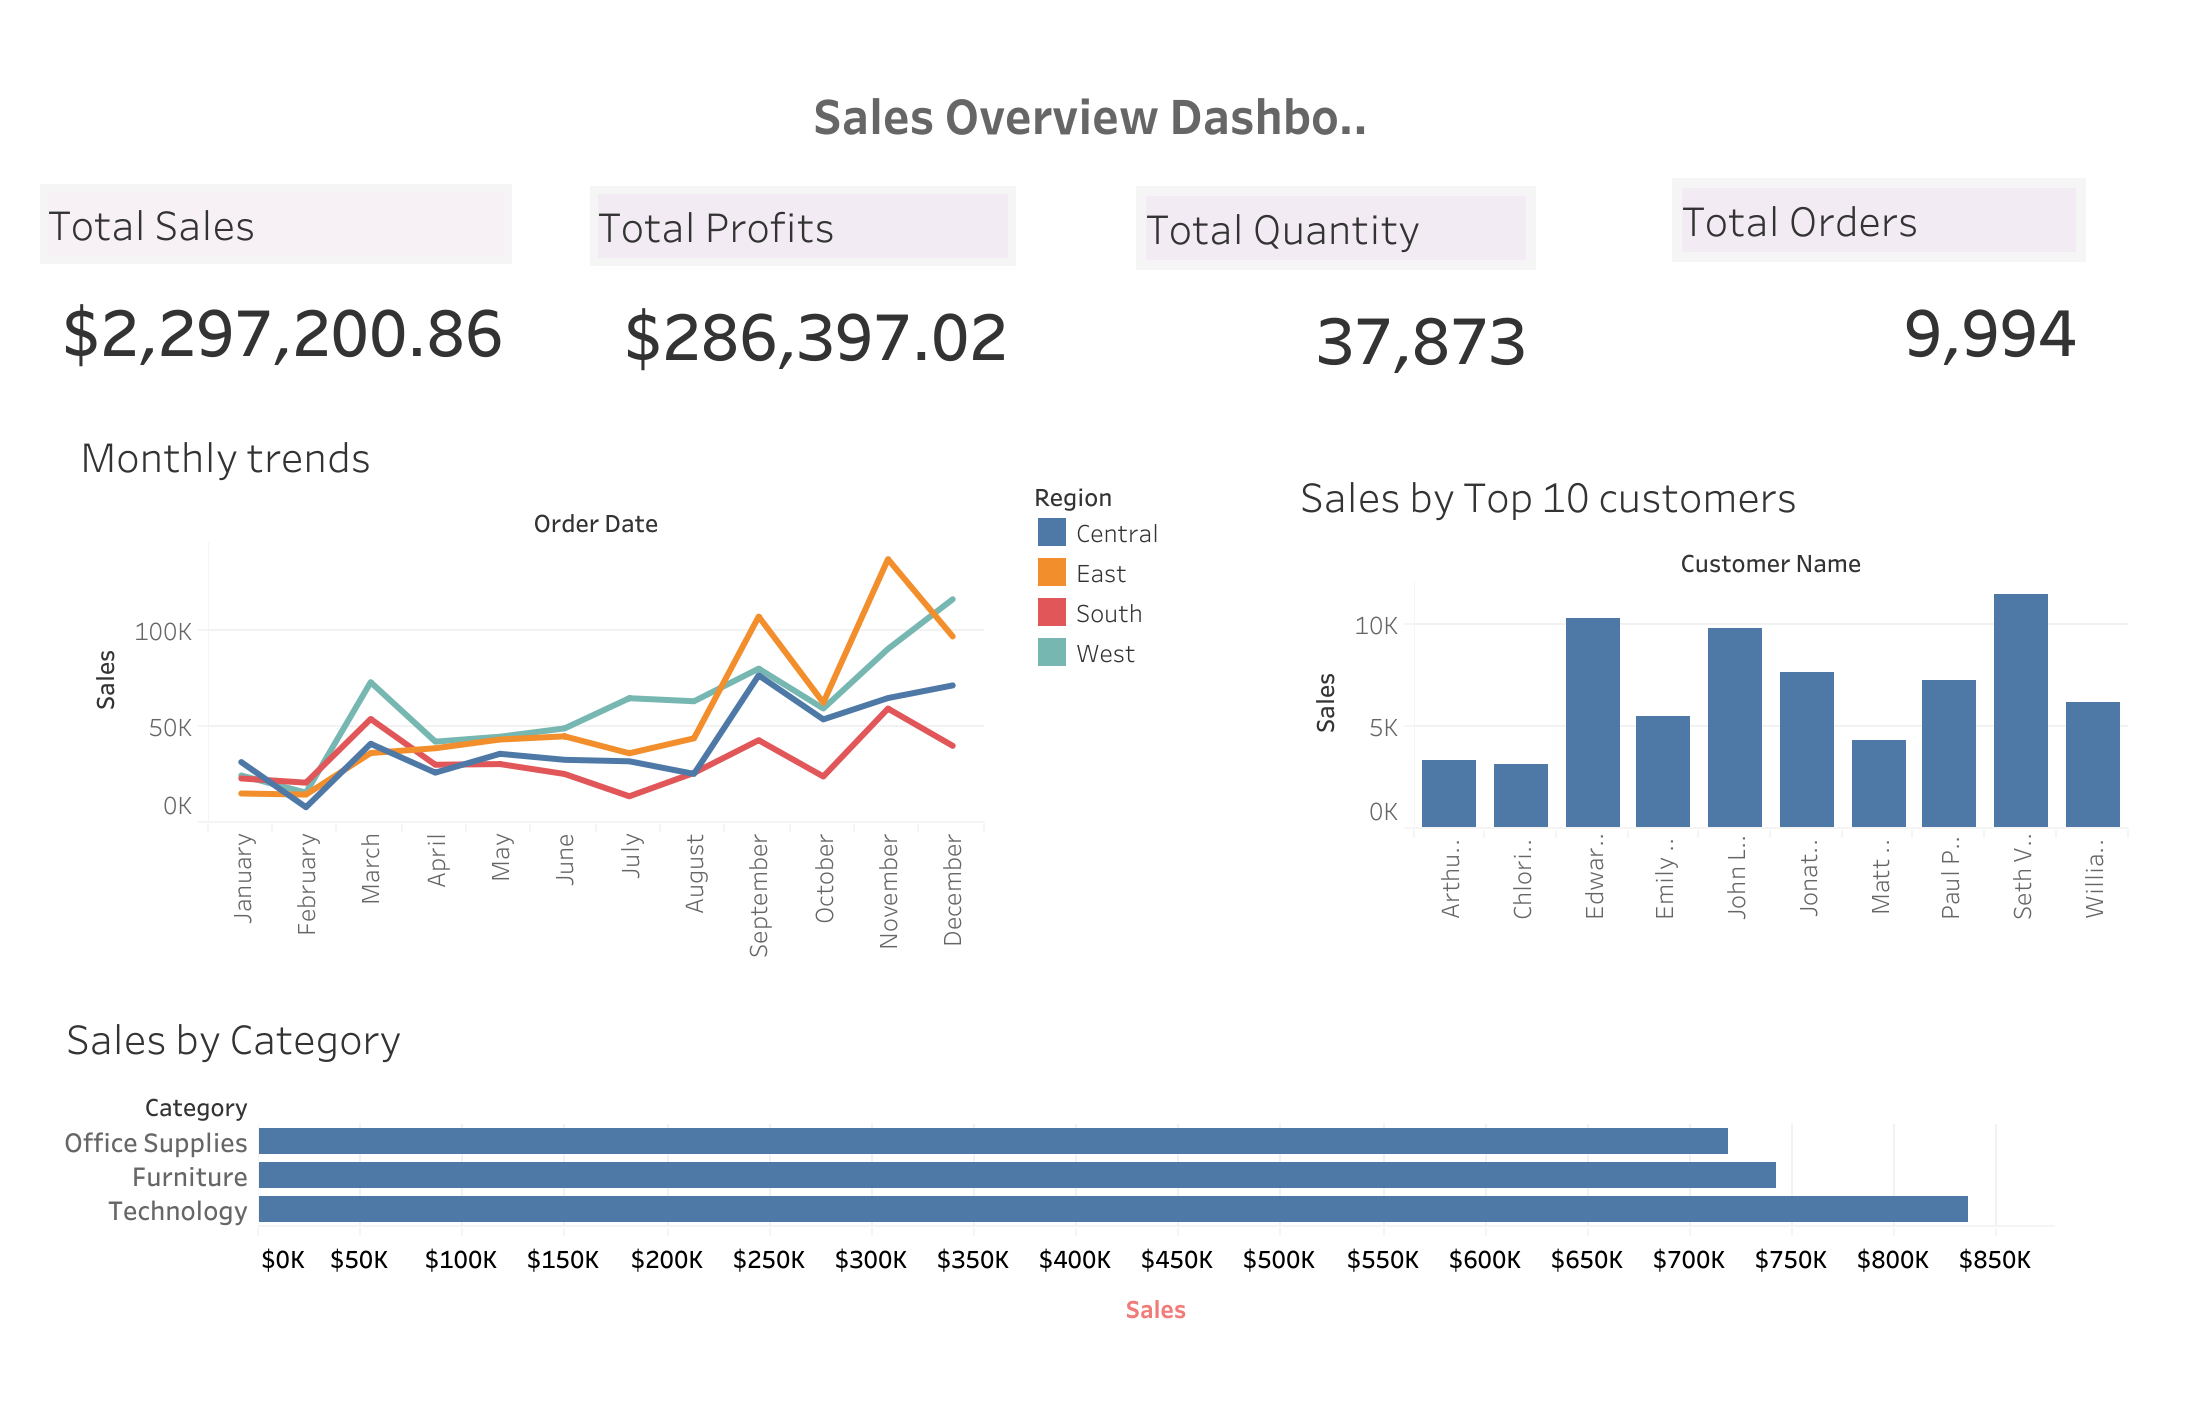

This screenshot's page, from the dashboard's own definition file:
{"tool":"tableau","page":{"name":"Sales Dashboard","canvas":[1000,1000],"units":"permille","ordinal":0},"visuals":[{"type":"text","box":[367.4,50,259.6,60]},{"type":"worksheet","title":"Total Orders","mark":"Automatic","box":[759.6,125.7,188.1,152.9]},{"type":"worksheet","title":"Total Sales","mark":"Automatic","box":[18.5,130,213.8,148.6]},{"type":"worksheet","title":"Total  Profits","mark":"Automatic","box":[268.5,131.4,192.9,151.4]},{"type":"worksheet","title":"Total Quantity","mark":"Automatic","box":[516.1,131.4,181.7,152.9]},{"type":"worksheet","title":"Monthly trends","mark":"Automatic","rows":["Sales"],"cols":["Order Date"],"box":[33,295.7,414,401.4]},{"type":"worksheet","title":"Top 10 customer sales","mark":"Automatic","rows":["Sales"],"cols":["Customer Name"],"box":[587.6,322.9,379.4,332.9]},{"type":"legend","title":"Monthly trends","param":"[federated.13deow31810mfw19nk0t20158ovb].[none:Region:nk]","box":[469.4,335.7,110.9,140]},{"type":"worksheet","title":"Sales by category","mark":"Automatic","rows":["Category"],"cols":["Sales"],"box":[26.5,707.1,907.6,278.6]}]}

Visuals, with their boxes on the dashboard's canvas, which has no fixed pixel size, in thousandths of its width and height (x1, y1, x2, y2). These are canvas units, not pixel positions in the 2198x1408 screenshot, which may show the page scaled, cropped or inside an application window:
text: {"x1": 367, "y1": 50, "x2": 627, "y2": 110}
"Total Orders" worksheet: {"x1": 760, "y1": 126, "x2": 948, "y2": 279}
"Total Sales" worksheet: {"x1": 18, "y1": 130, "x2": 232, "y2": 279}
"Total  Profits" worksheet: {"x1": 268, "y1": 131, "x2": 461, "y2": 283}
"Total Quantity" worksheet: {"x1": 516, "y1": 131, "x2": 698, "y2": 284}
"Monthly trends" worksheet: {"x1": 33, "y1": 296, "x2": 447, "y2": 697}
"Top 10 customer sales" worksheet: {"x1": 588, "y1": 323, "x2": 967, "y2": 656}
"Monthly trends" legend: {"x1": 469, "y1": 336, "x2": 580, "y2": 476}
"Sales by category" worksheet: {"x1": 26, "y1": 707, "x2": 934, "y2": 986}
